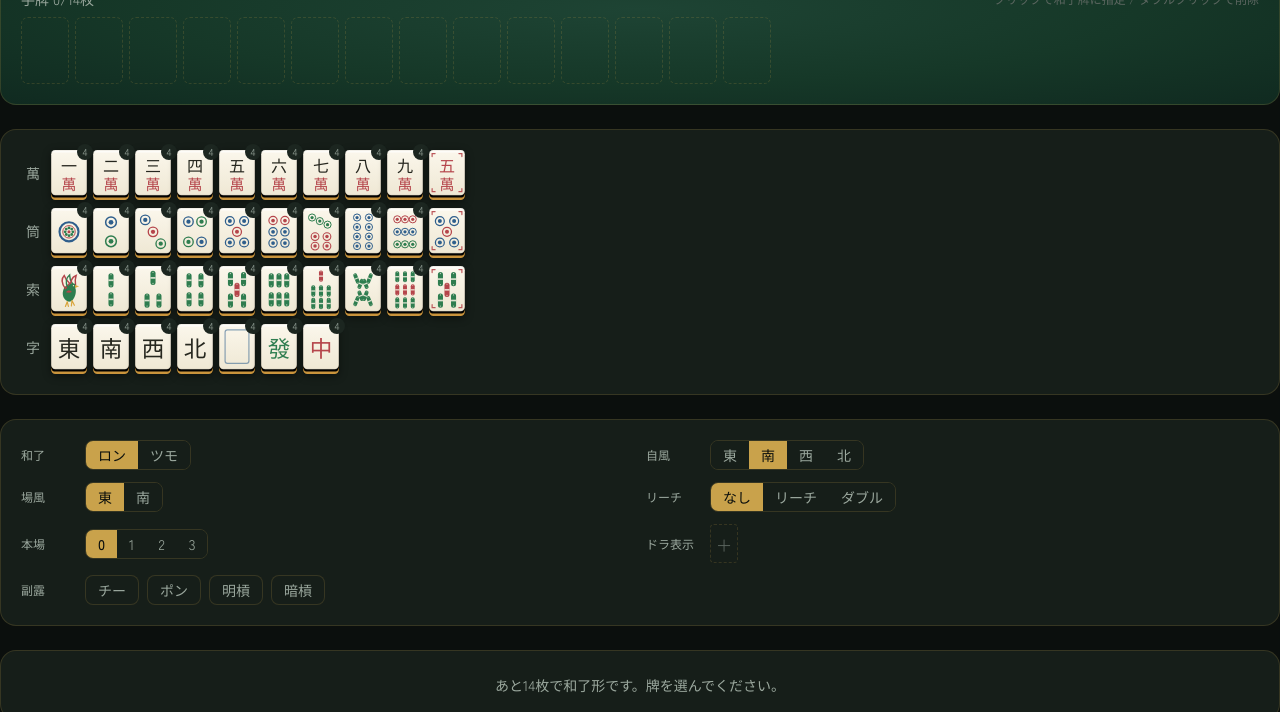
Test: CalculatorPage › ポンモードで牌をクリックすると副露が追加される
(page scrolled)
Click the button "ポン" at (174, 590), box [147,575,201,605]
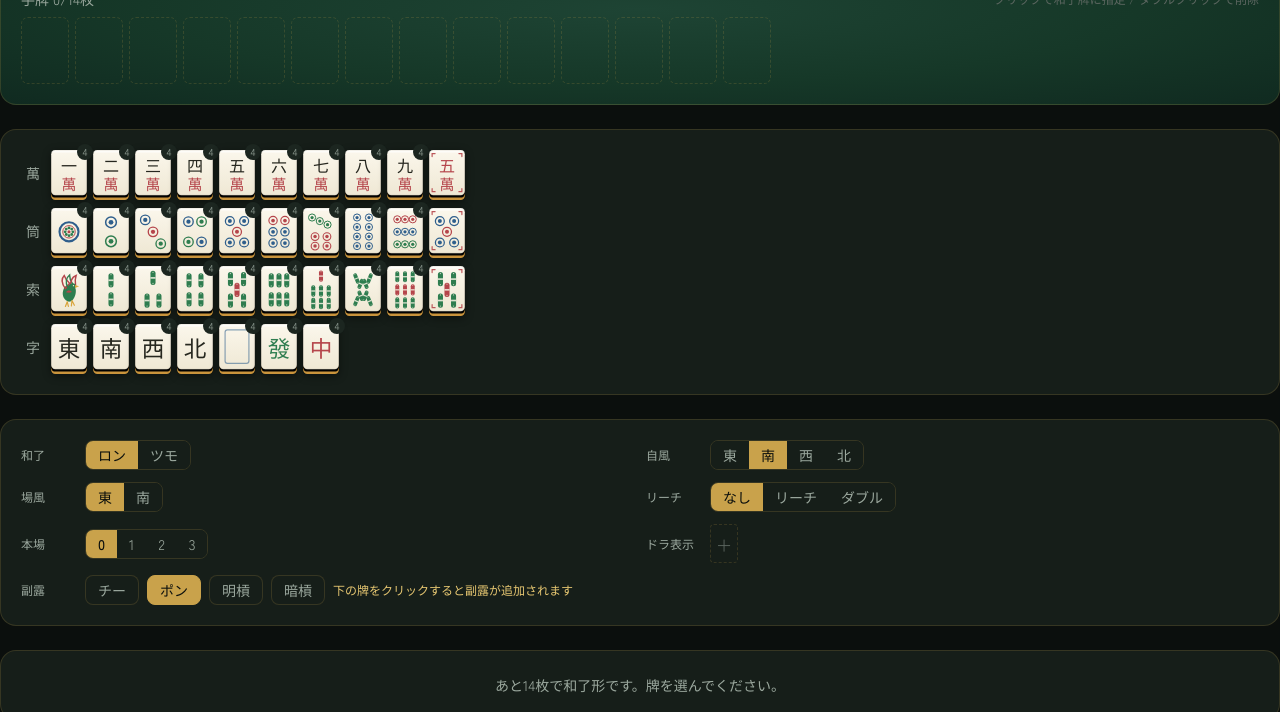
Now the text "下の牌をクリックすると副露が追加されます" is shown, box [333,582,573,598]
Click the button named "白" at (237, 349), box [219,324,255,374]
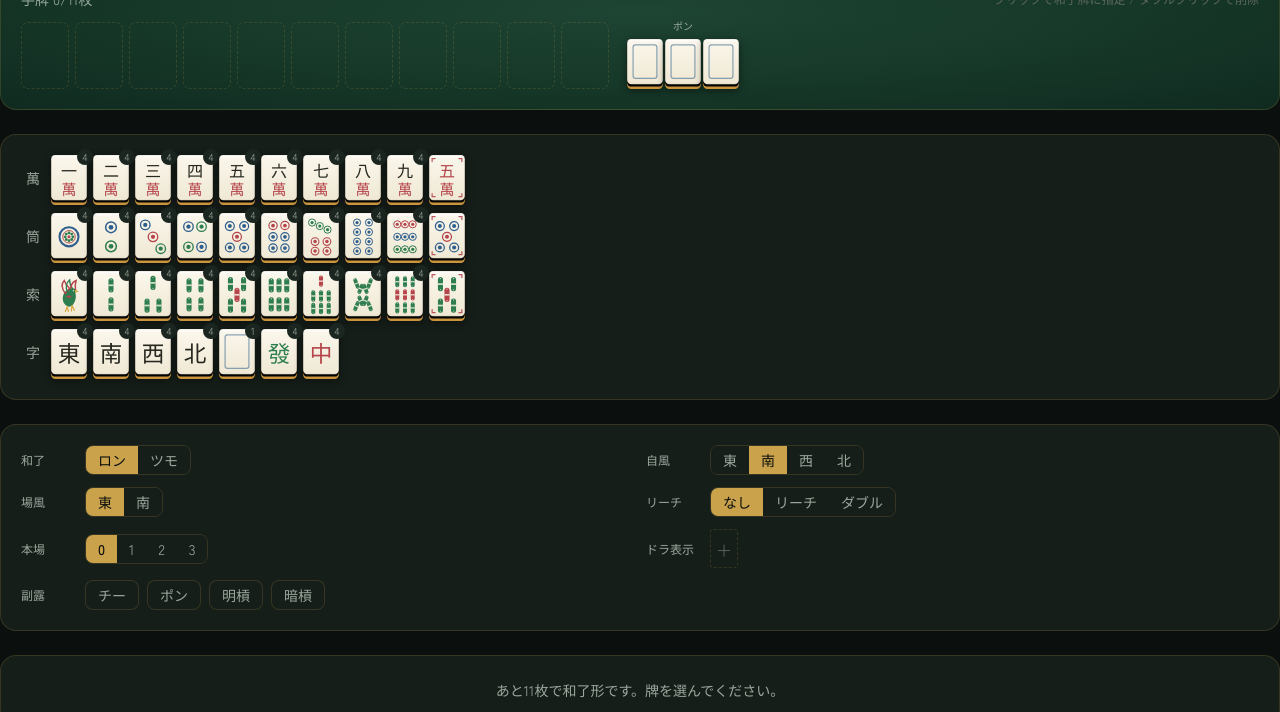
Now the text "下の牌をクリックすると副露が追加されます" is gone
Double-click the button with aria-label "ポンを削除" at (683, 53), box [627,17,739,89]
(page scrolled)
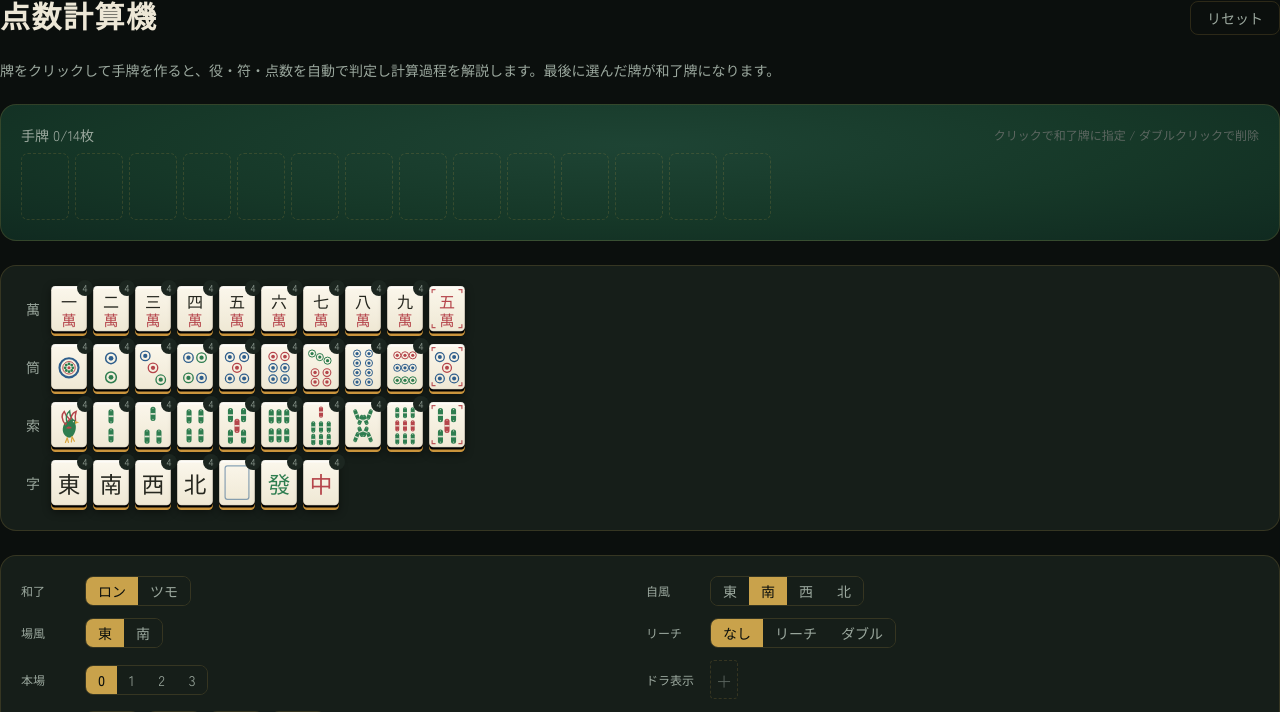
Now the text "手牌 0/14枚" is shown, box [21,125,94,145]
Now the button "ポンを削除" is gone
